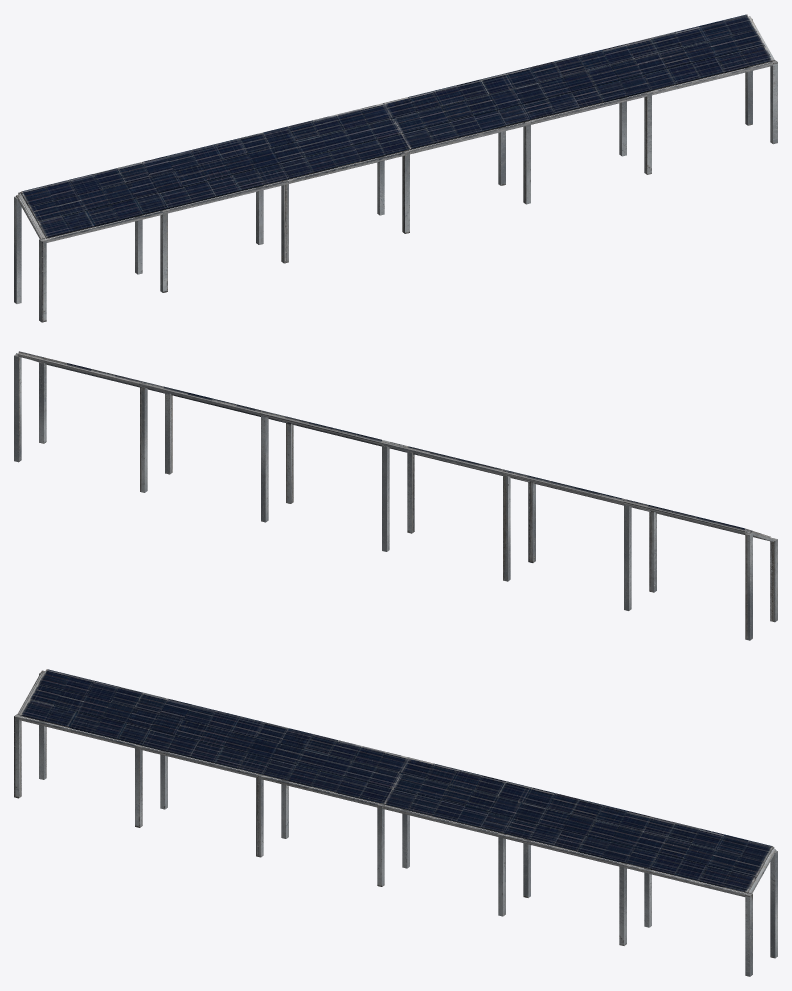
The model's file is inverter.obj.
The picture shows the model from 3 angles, top to bottom: view 1: azimuth 30°, elevation 25°; view 2: azimuth 150°, elevation 25°; view 3: azimuth 330°, elevation 25°; orthographic projection.
Parts seen in each view (by area): view 1: Inverter2501221272; view 2: Inverter2501221272; view 3: Inverter2501221272.
Boxes of the visible parts, x1=… form: Inverter2501221272: x1=14, y1=14, x2=777, y2=322; Inverter2501221272: x1=14, y1=351, x2=777, y2=640; Inverter2501221272: x1=14, y1=669, x2=777, y2=976.
Bounding box in the file's own units: 2 × 0.2858 × 0.1329.
Materials: 1 (1 with a texture image).
